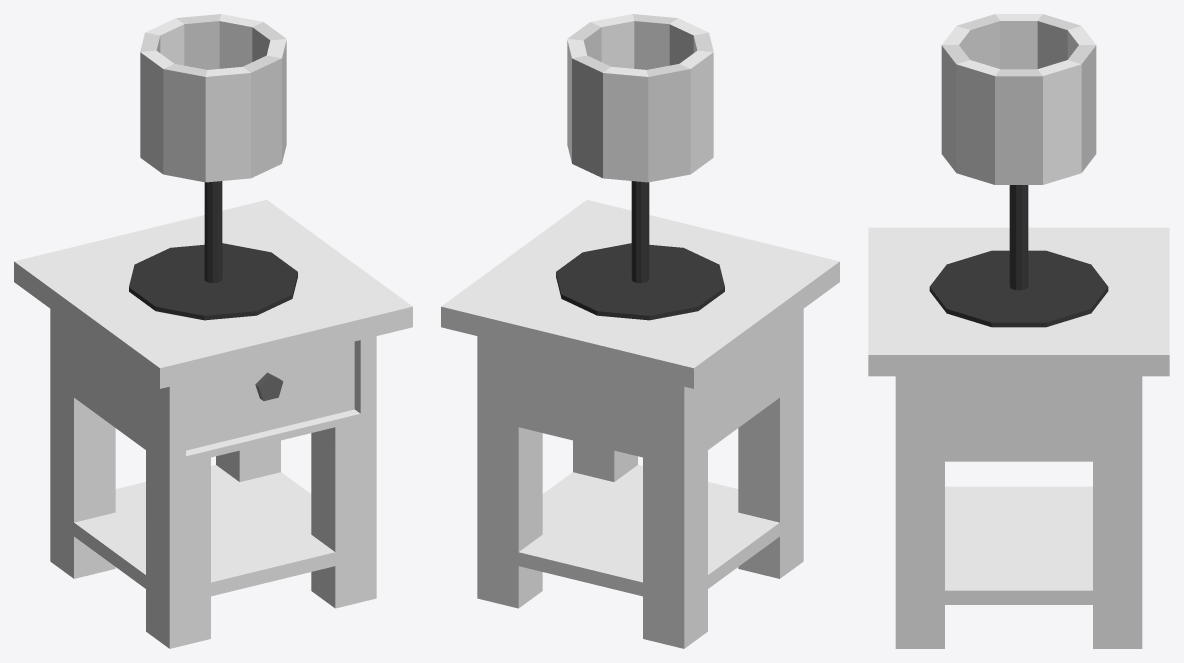
Rendered from Lv2 Commodin.fbx.
The picture shows the model from 3 angles, left to right: view 1: azimuth 30°, elevation 25°; view 2: azimuth 150°, elevation 25°; view 3: azimuth 270°, elevation 25°; orthographic projection. The views are drawn at different scales.
Parts seen in each view (by area): view 1: Commodin; view 2: Commodin; view 3: Commodin.
Part boxes in pixels (x1,y1,x2,y2): Commodin: [14, 14, 412, 648]; Commodin: [441, 14, 839, 648]; Commodin: [868, 14, 1169, 648].
Size of the model in its own units: 47.5 by 95.96 by 47.5.
